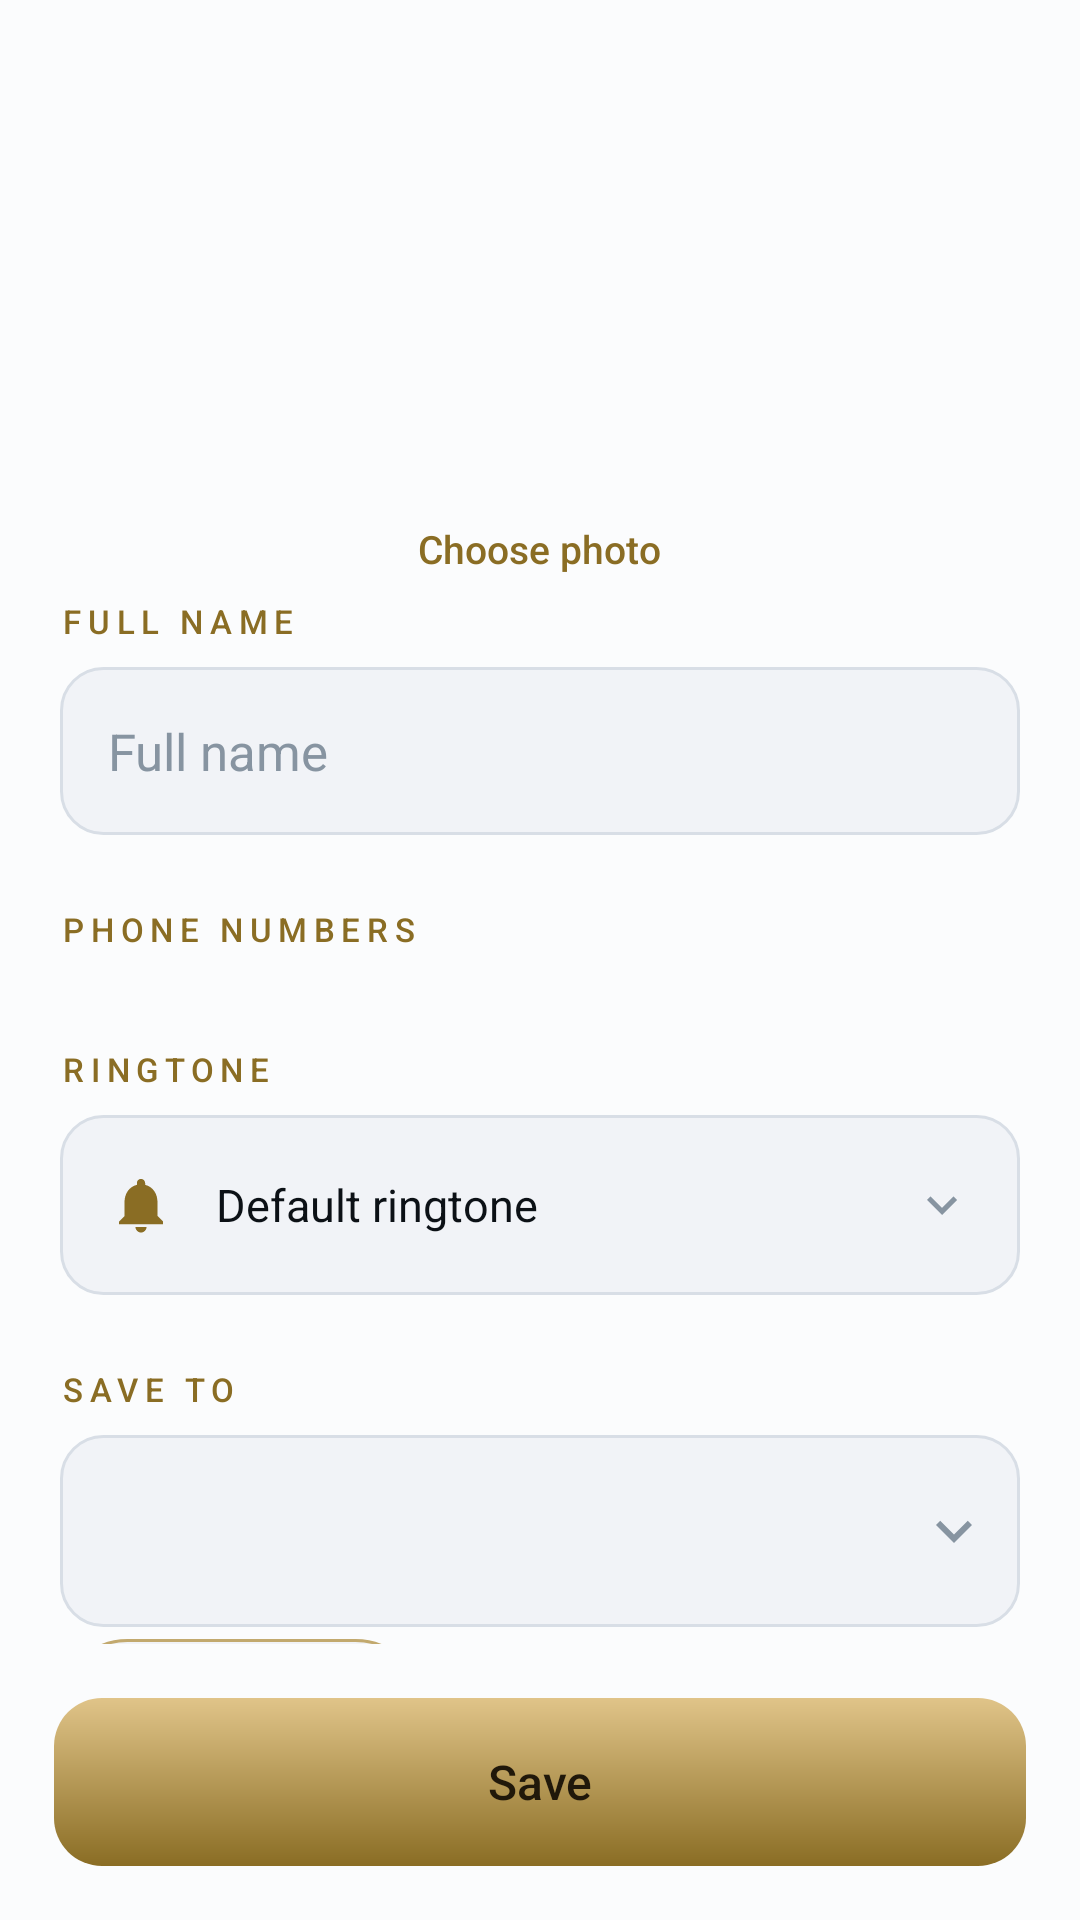

Icon bounding boxes for this 1080w x 1920h phone screenshot, format BBox(x1, y1, x2, y2):
bell: BBox(119, 1179, 163, 1233)
expand more: BBox(927, 1196, 957, 1215), BBox(936, 1521, 972, 1543)
